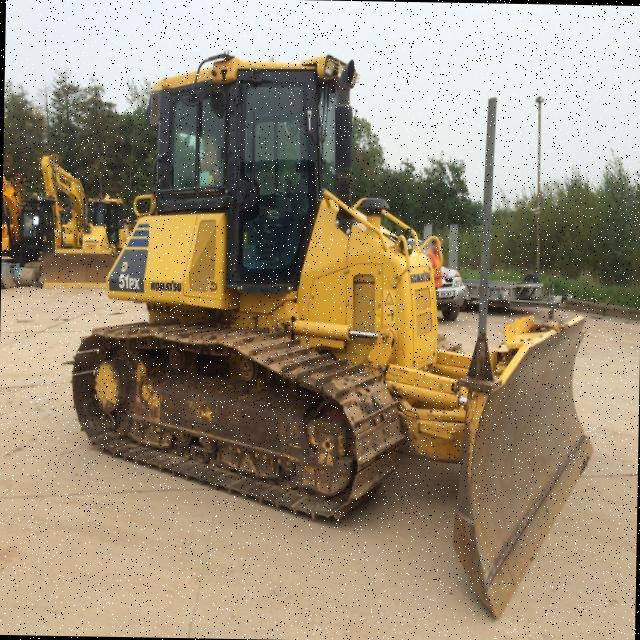Bulldozer: (56, 39, 612, 620)
